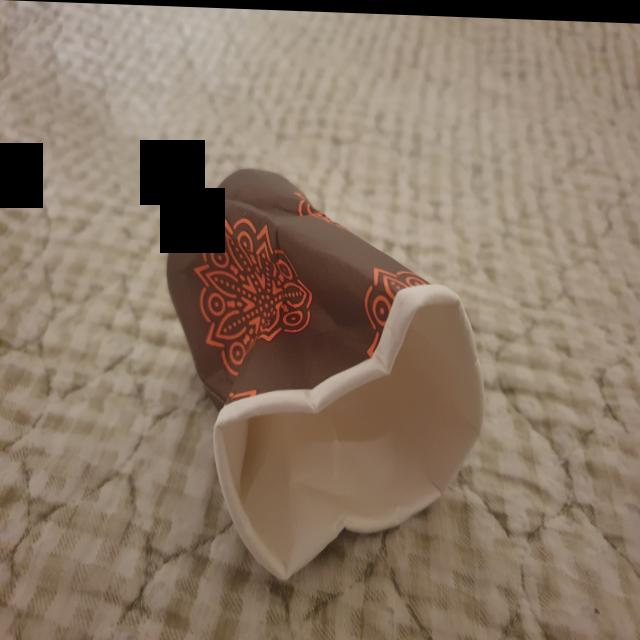cups: (162, 157, 490, 595)
